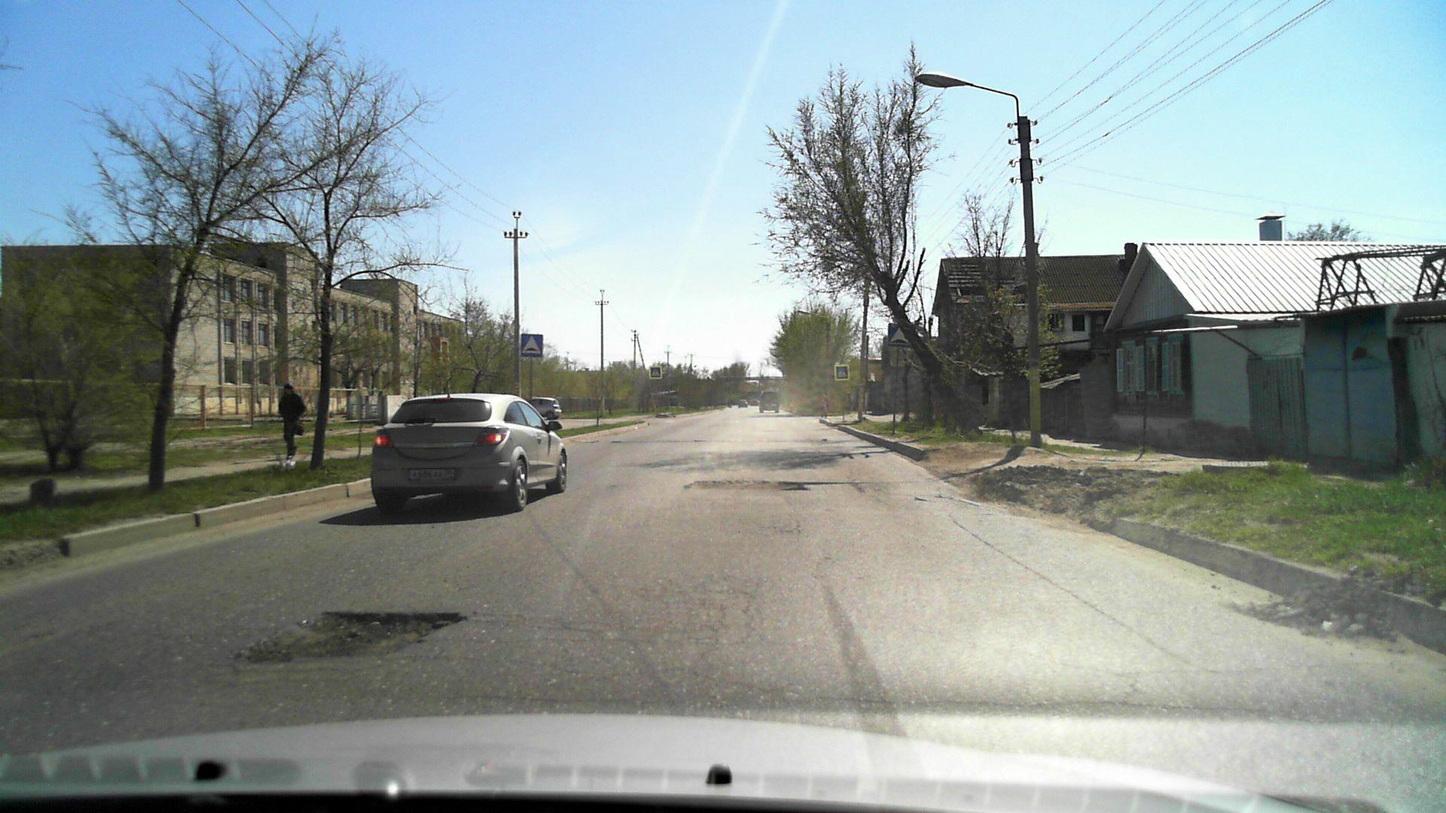road_sign: (520, 332, 544, 357), (834, 363, 851, 381), (649, 365, 664, 380)
